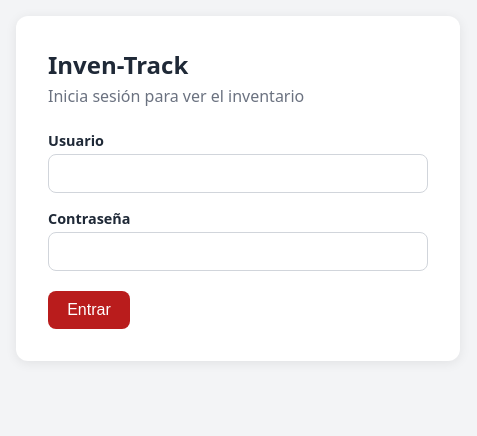
it: App › vuelve al login con aviso si la API responde 401 al pedir productos
Type "admin" into the field labelled "Usuario" at (238, 174), box [48,154,428,193]
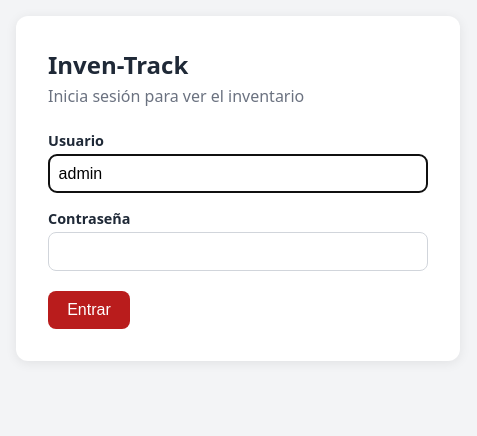
Type "admin123" into the password field labelled "Contraseña" at (238, 252), box [48,232,428,271]
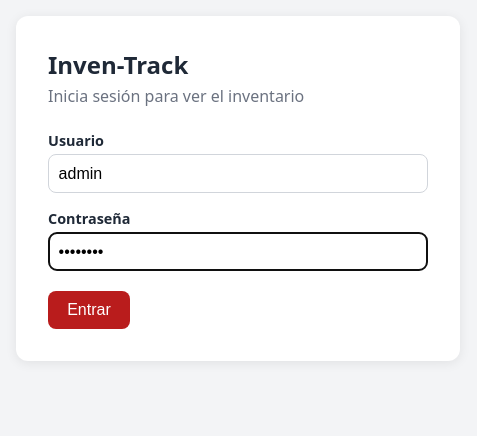
Click the button "Entrar" at (89, 310), box [48,291,130,329]
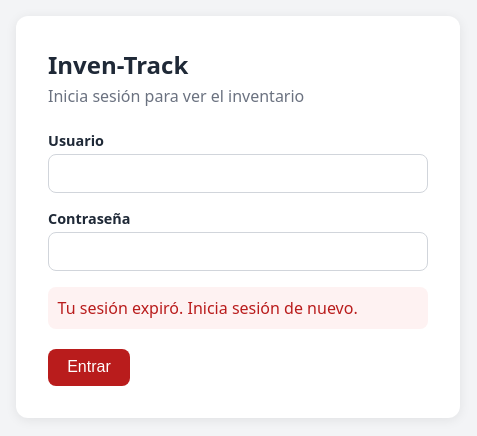
Expected: the button "Entrar" is shown, [48,349,130,386]
Result: the message shows "Tu sesión expiró" at [58,297,358,319]
